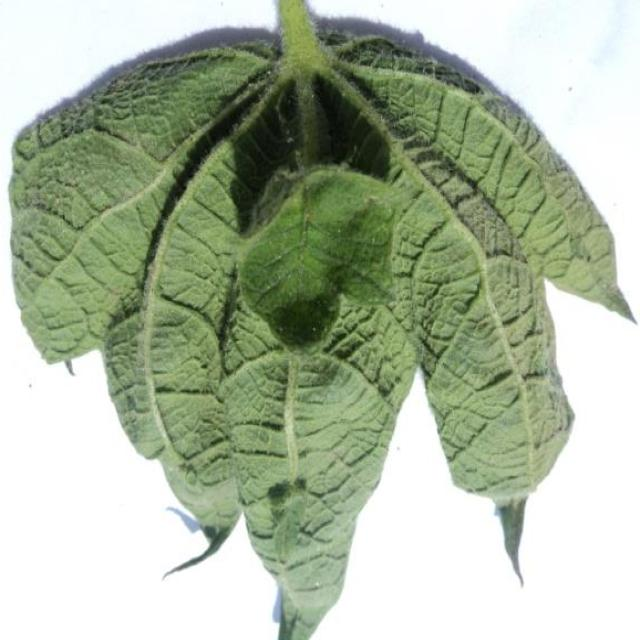Leaf Curl Virus: (38, 54, 598, 526)
